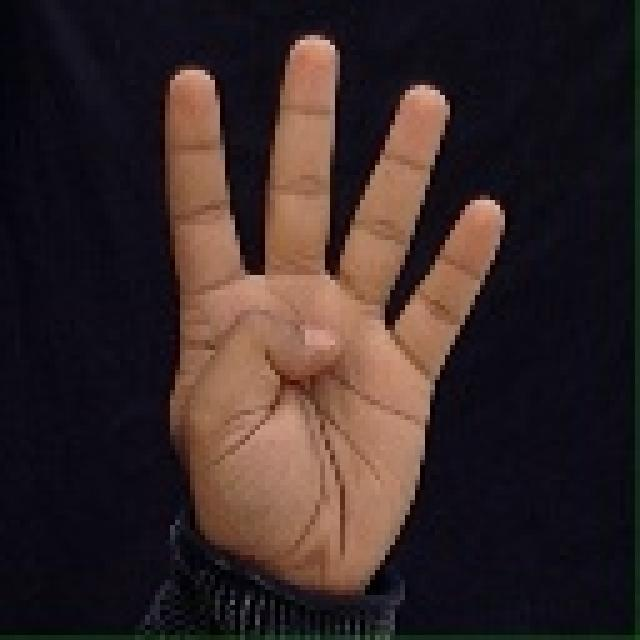Numeric-4: (167, 32, 509, 575)
